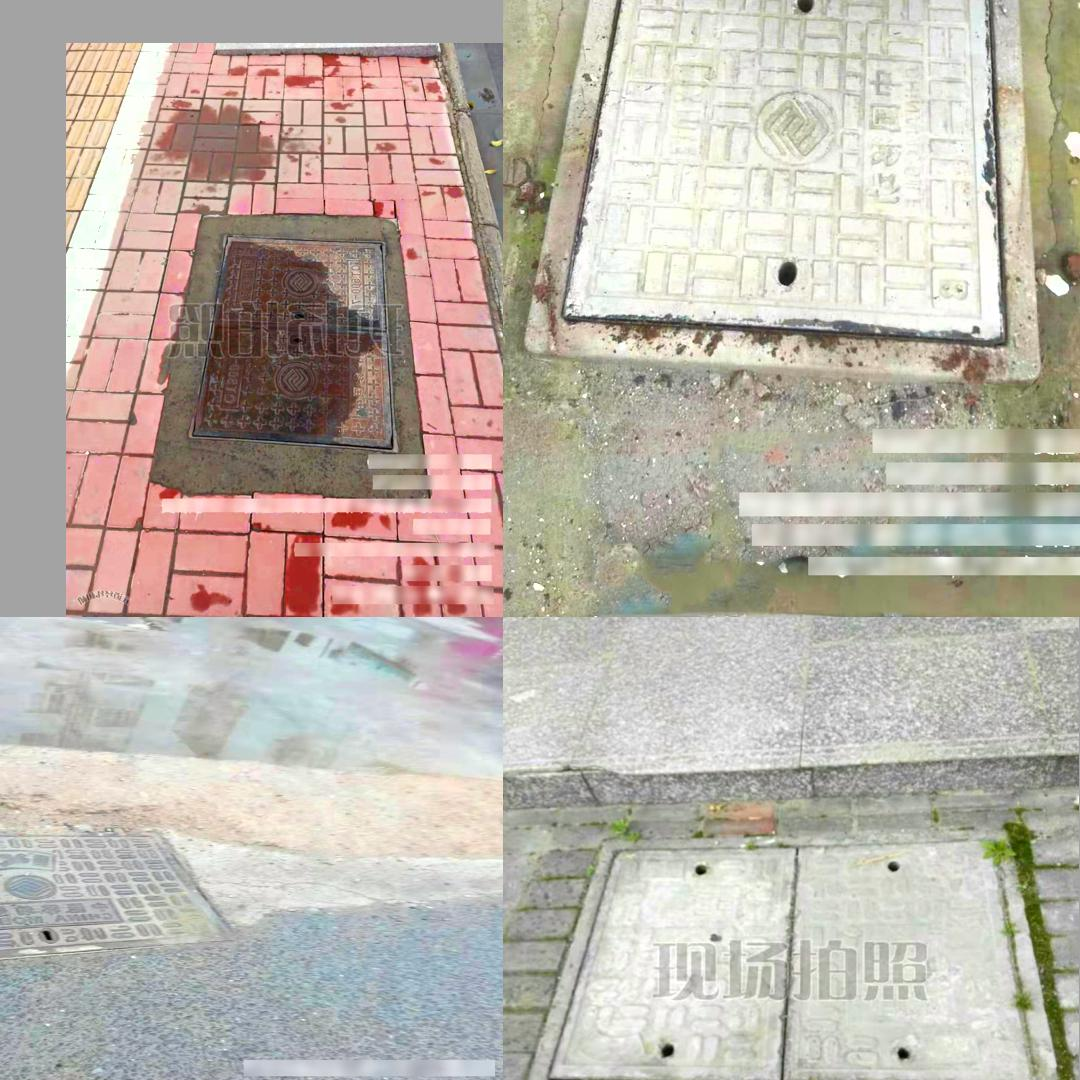good: (525, 0, 1042, 378), (523, 828, 1063, 1080), (188, 232, 398, 450), (0, 830, 241, 978)
